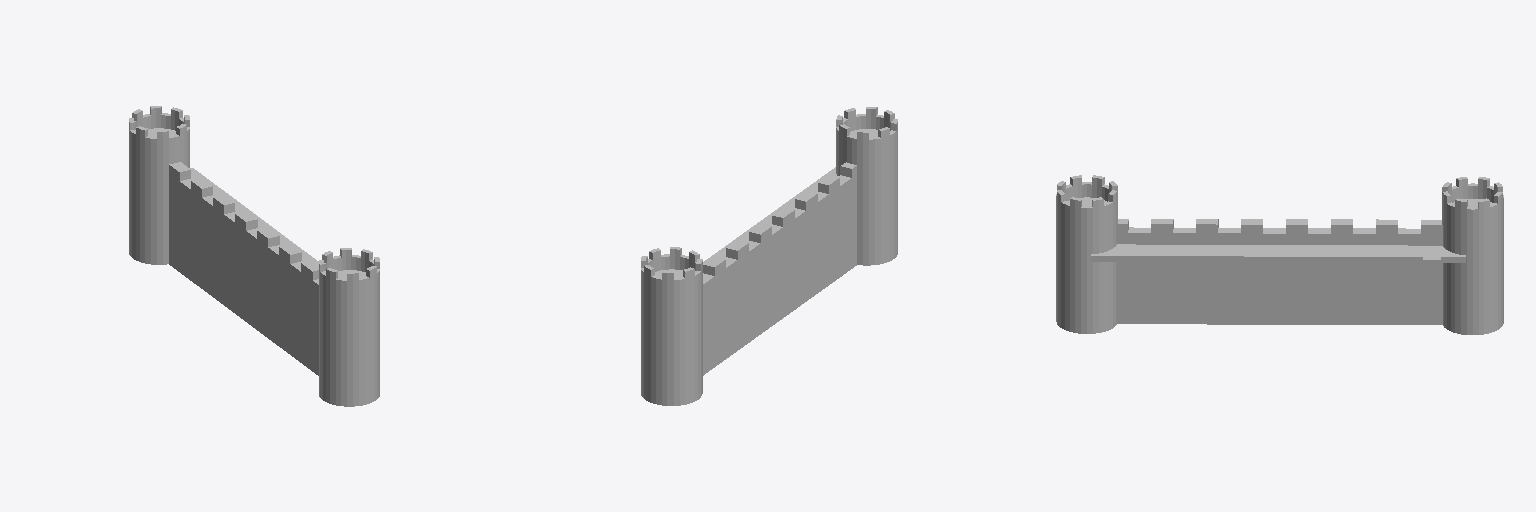
File: m19castleA3.obj
3 views of the same model, side by side, from view 1: azimuth 30°, elevation 25°; view 2: azimuth 150°, elevation 25°; view 3: azimuth 270°, elevation 25° (orthographic).
Visible parts, largest first — view 1: Cylinder.000_Cylinder.007; view 2: Cylinder.000_Cylinder.007; view 3: Cylinder.000_Cylinder.007.
Part boxes in pixels (left/top/right/bottom): Cylinder.000_Cylinder.007: left=129, top=106, right=379, bottom=406; Cylinder.000_Cylinder.007: left=641, top=107, right=897, bottom=405; Cylinder.000_Cylinder.007: left=1056, top=175, right=1503, bottom=334.
Bounding box in the file's own units: 126 × 269 × 820.